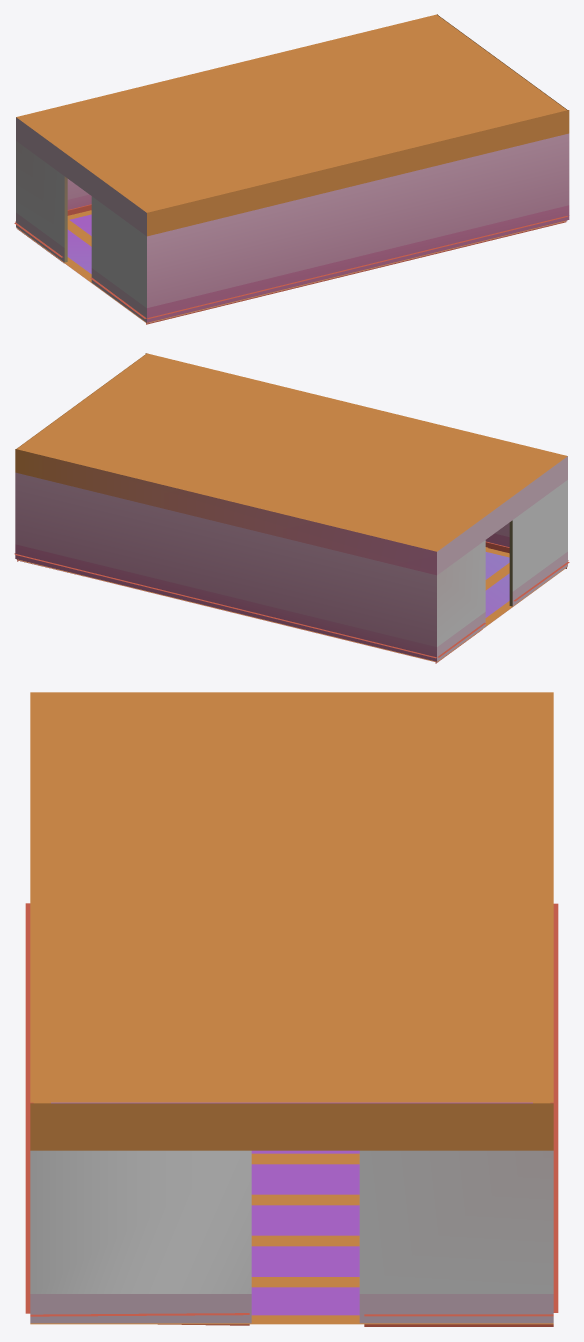
Rendered from hallway-ascii.fbx.
3 views of the same model, one above another, from view 1: azimuth 30°, elevation 25°; view 2: azimuth 150°, elevation 25°; view 3: azimuth 270°, elevation 25° (orthographic). The views are drawn at different scales.
Visible parts, largest first — view 1: Cube.008; view 2: Cube.008; view 3: Cube.008.
Boxes of the visible parts, left/top/right/bottom form: Cube.008: left=14, top=14, right=569, bottom=324; Cube.008: left=14, top=353, right=569, bottom=663; Cube.008: left=25, top=692, right=558, bottom=1326.
Bounding box in the file's own units: 12.13 × 3.07 × 6.58.
